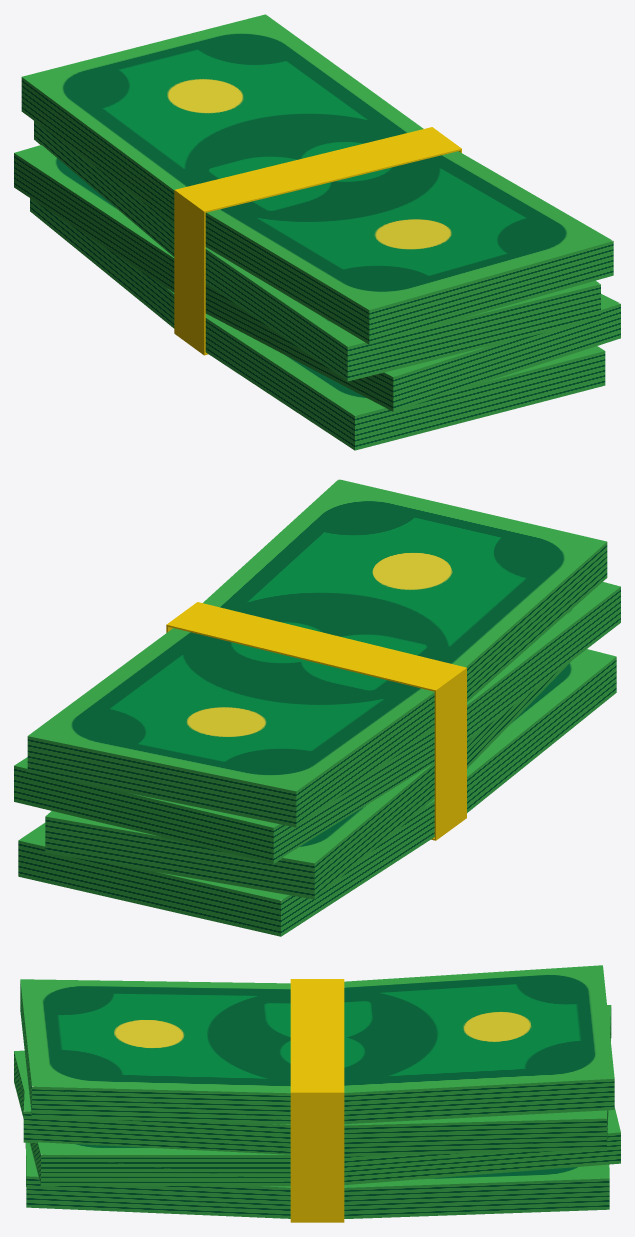
Rendered from dollar.fbx.
3 views of the same model, one above another, from view 1: azimuth 30°, elevation 25°; view 2: azimuth 150°, elevation 25°; view 3: azimuth 270°, elevation 25° (orthographic). The views are drawn at different scales.
Visible parts, largest first — view 1: Cube, Cube.003, Cube.002, Cube.001, Cube.004; view 2: Cube, Cube.003, Cube.001, Cube.002, Cube.004; view 3: Cube, Cube.003, Cube.001, Cube.002, Cube.004.
Boxes of the visible parts, box(x1,y1,x2,y2) form: Cube: box(21, 14, 613, 344); Cube.003: box(30, 198, 605, 450); Cube.002: box(14, 145, 620, 411); Cube.001: box(34, 121, 600, 381); Cube.004: box(174, 127, 461, 355); Cube: box(27, 479, 607, 827); Cube.003: box(18, 649, 616, 936); Cube.001: box(14, 582, 620, 863); Cube.002: box(45, 660, 572, 899); Cube.004: box(166, 602, 466, 840); Cube: box(20, 965, 614, 1124); Cube.003: box(25, 1142, 609, 1218); Cube.001: box(23, 1005, 611, 1156); Cube.002: box(14, 1050, 620, 1186); Cube.004: box(290, 979, 344, 1222).
Size of the model in its own units: 240 by 118 by 464.
